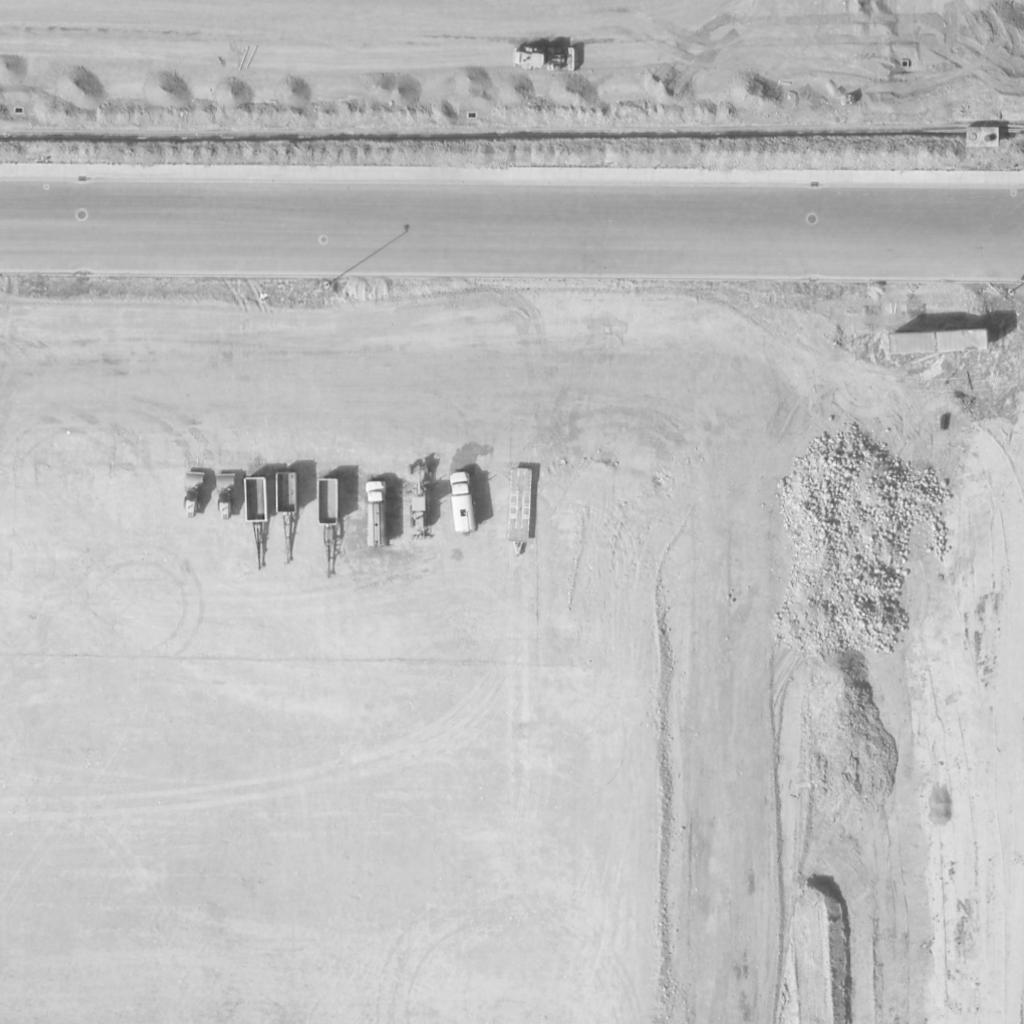vehicle: (406, 459, 438, 543), (446, 471, 480, 535), (362, 479, 392, 549), (511, 45, 579, 73), (213, 472, 241, 522), (177, 473, 207, 519)
